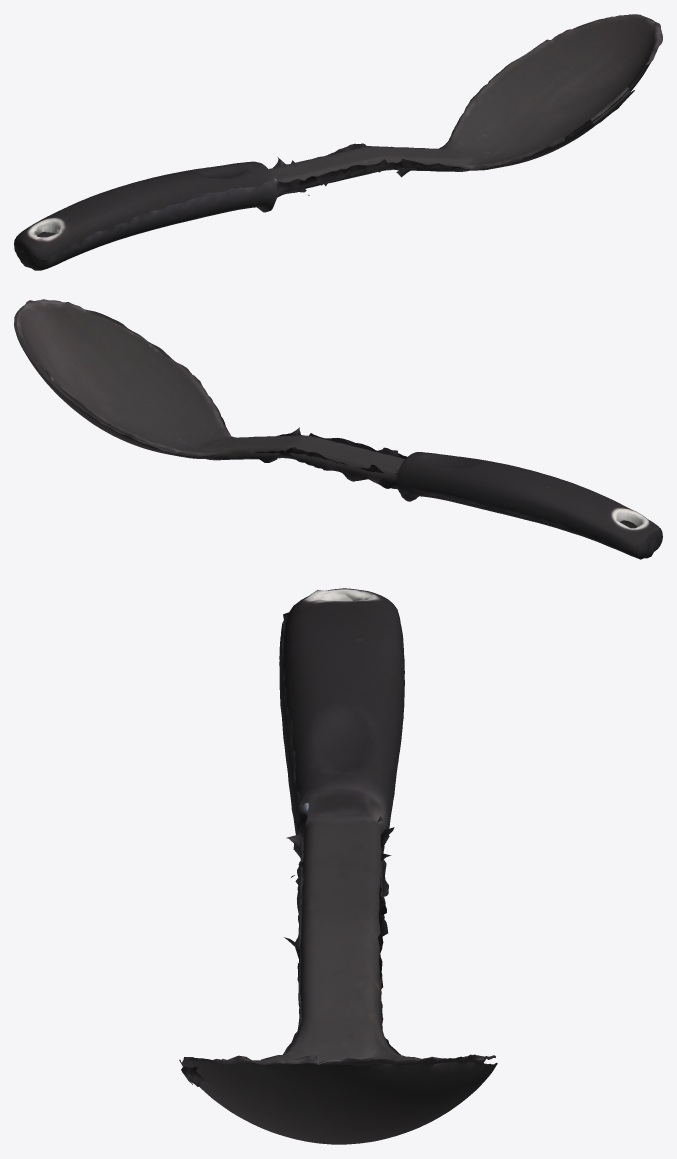
The model's file is LargeGreySpoon.dae.
3 renders of one model, top to bottom at view 1: azimuth 30°, elevation 25°; view 2: azimuth 150°, elevation 25°; view 3: azimuth 270°, elevation 25°, orthographic. The views are drawn at different scales.
Parts seen in each view (by area): view 1: Scan_PIVOT; view 2: Scan_PIVOT; view 3: Scan_PIVOT.
Part boxes in pixels (x1=…): Scan_PIVOT: x1=14, y1=14, x2=662, y2=270; Scan_PIVOT: x1=14, y1=299, x2=662, y2=559; Scan_PIVOT: x1=179, y1=588, x2=497, y2=1144.
Bounding box in the file's own units: 0.2965 × 0.0649 × 0.0467.
Materials: 1 (1 with a texture image).
